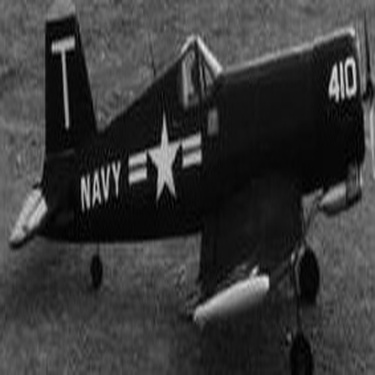airplane: (9, 13, 370, 372)
